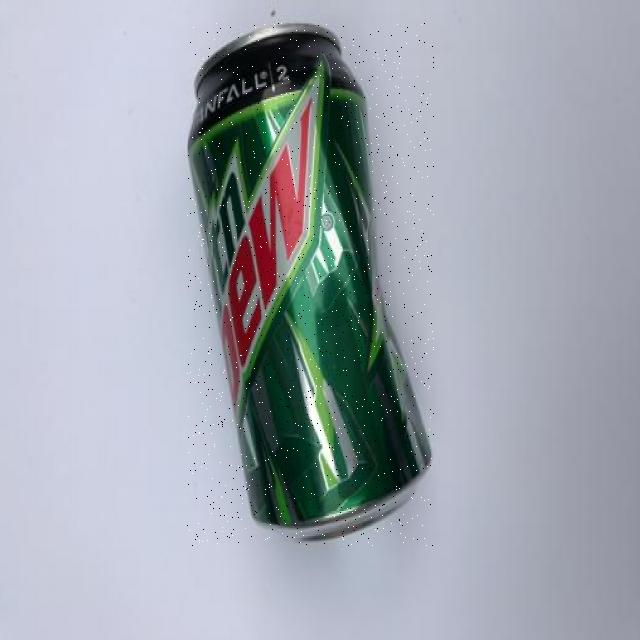metal: (187, 24, 434, 546)
